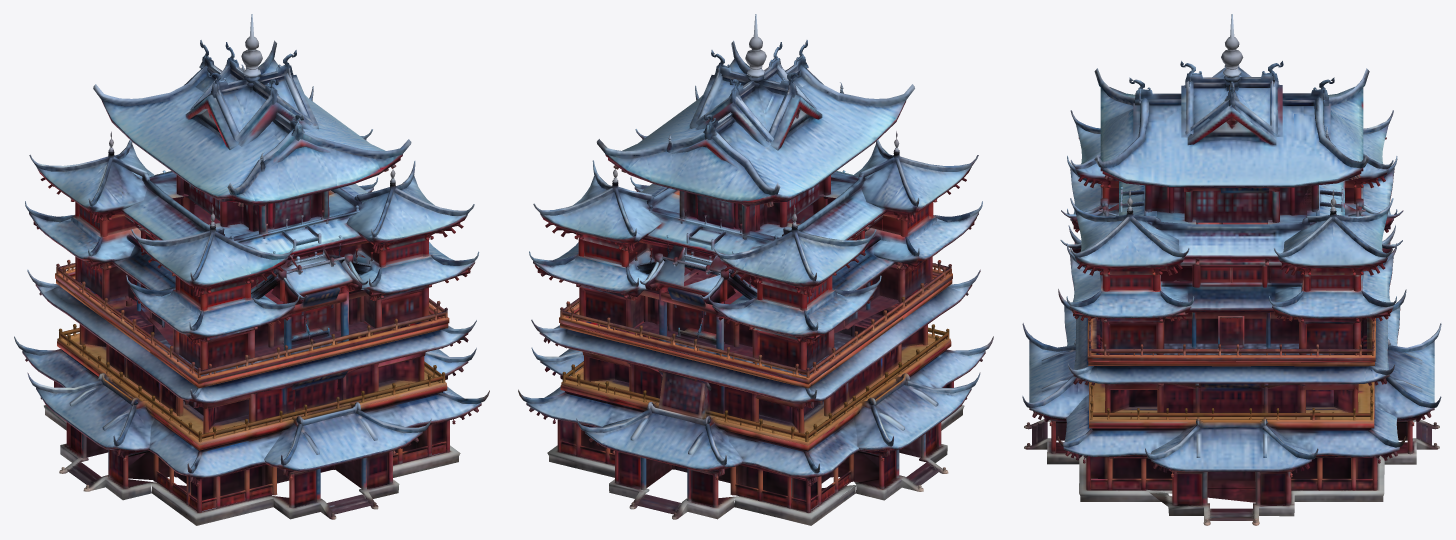
The model's file is forma-pagoda.glb.
3 renders of one model, left to right at view 1: azimuth 30°, elevation 25°; view 2: azimuth 150°, elevation 25°; view 3: azimuth 270°, elevation 25°, orthographic.
Parts seen in each view (by area): view 1: tripo_node_0c8c1ce4-ee30-4f4b-b601-a950100308cc; view 2: tripo_node_0c8c1ce4-ee30-4f4b-b601-a950100308cc; view 3: tripo_node_0c8c1ce4-ee30-4f4b-b601-a950100308cc.
Boxes of the visible parts, left/top/right/bottom form: tripo_node_0c8c1ce4-ee30-4f4b-b601-a950100308cc: left=14, top=14, right=489, bottom=525; tripo_node_0c8c1ce4-ee30-4f4b-b601-a950100308cc: left=518, top=14, right=993, bottom=525; tripo_node_0c8c1ce4-ee30-4f4b-b601-a950100308cc: left=1022, top=14, right=1441, bottom=525.
Size of the model in its own units: 0.895 by 0.9995 by 0.896.
Materials: 1 (1 with a texture image).
